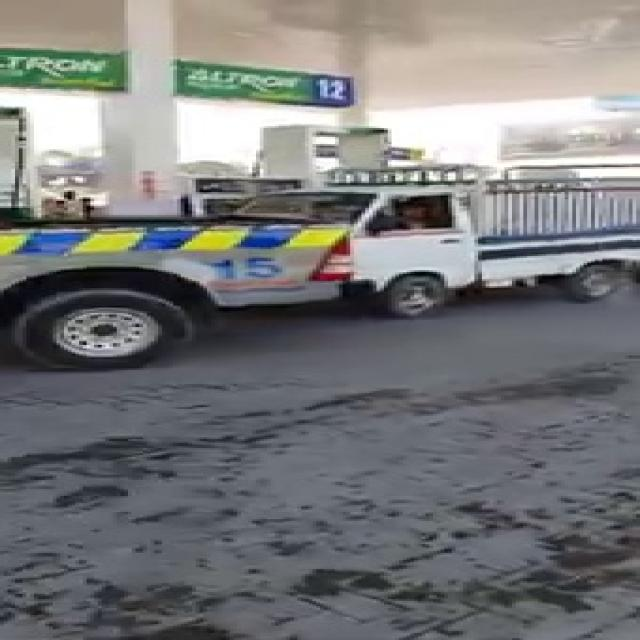police: (0, 186, 380, 364)
